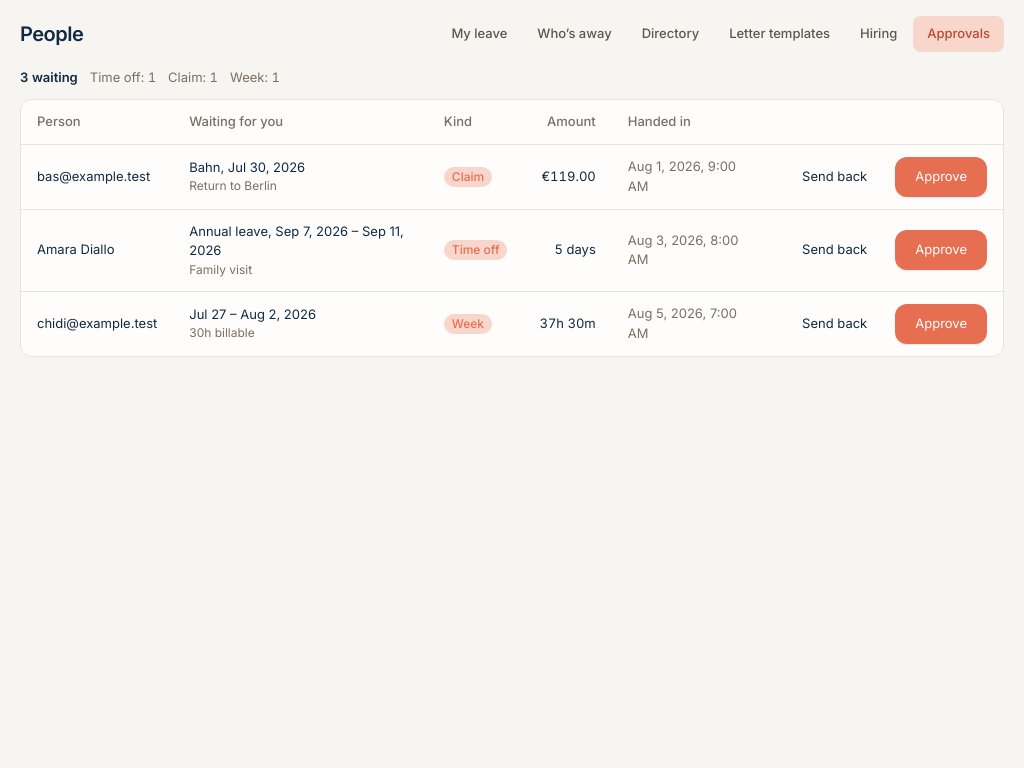
the one approvals inbox › a cancelled question decides nothing
Expected: the text "chidi@example.test" is shown, [21,291,173,356]
Step 1. Click the button "Send back" in the row of "chidi@example.test" → (835, 324), box [782,304,887,344]
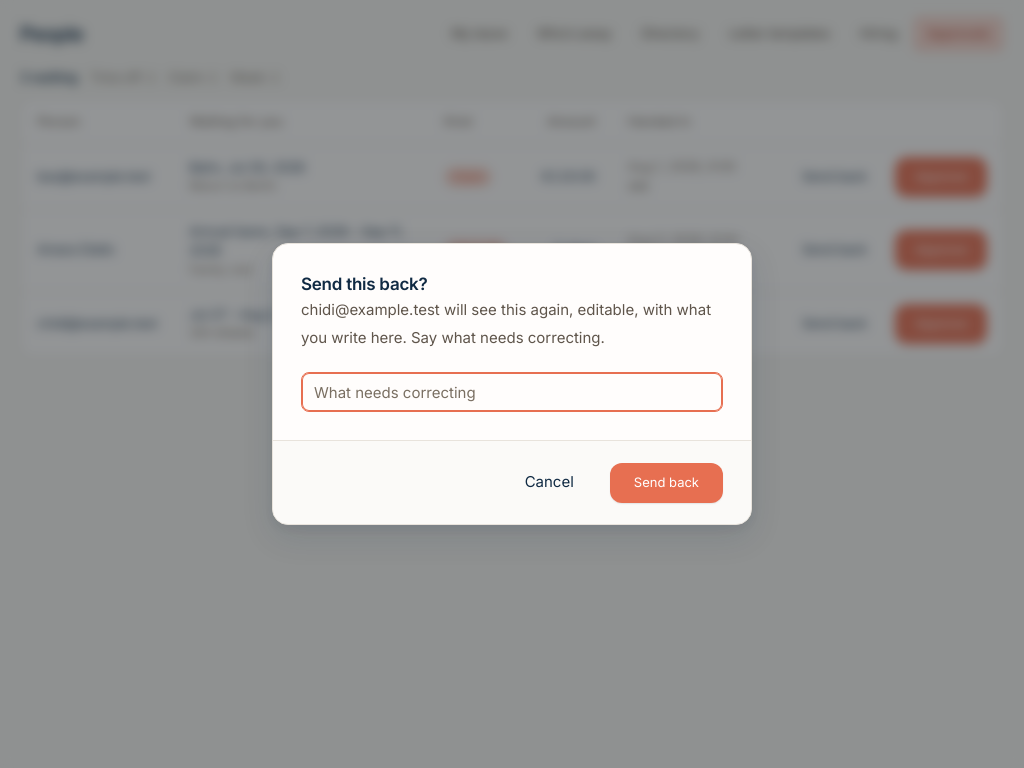
Step 2. Click the button "Cancel" → (549, 483), box [501,461,598,504]
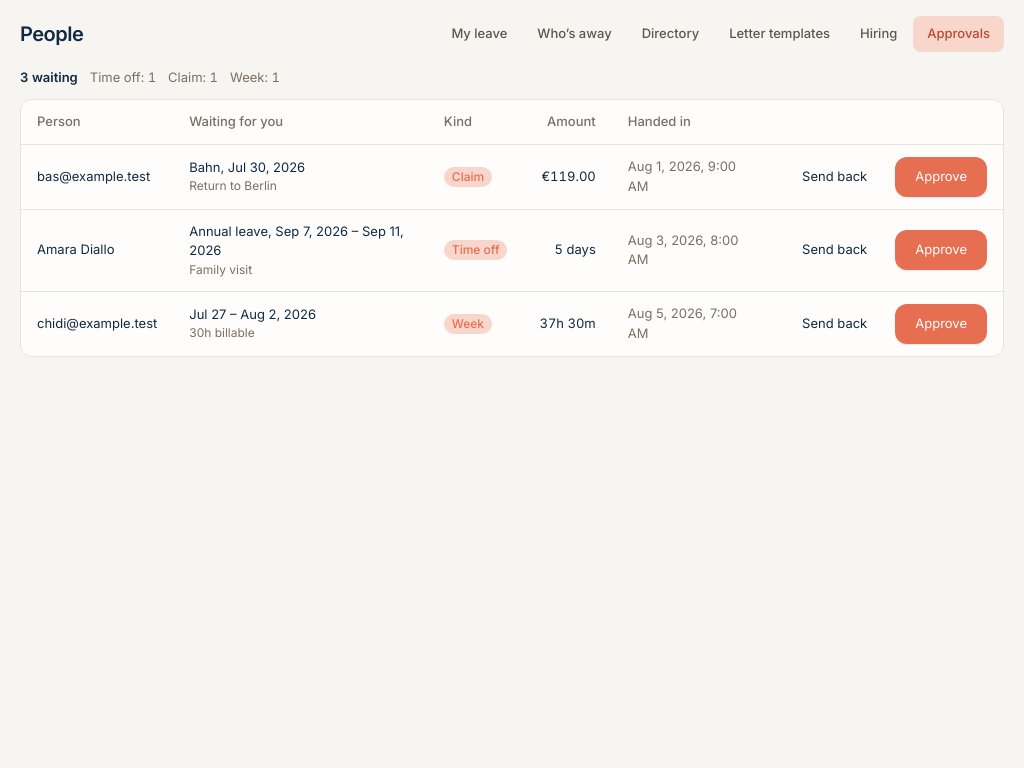
Expected: the dialog is gone
